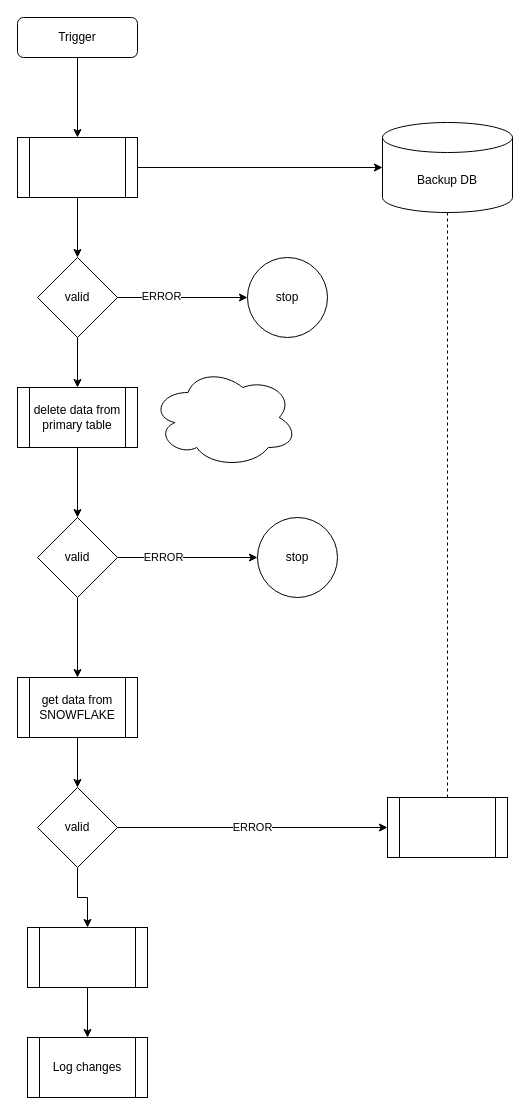
Image size: 530x1115. Some labels were removed from this diagram. The shapes that lost their labels are listed below. From the top down, each one's centre as x and y in pixels, then its label:
At (x=77, y=167): "backup from primary tables".
At (x=224, y=417): "mark fo deletion".
At (x=447, y=827): "restore backup data".
At (x=87, y=957): "UPDATE VIEWS".
